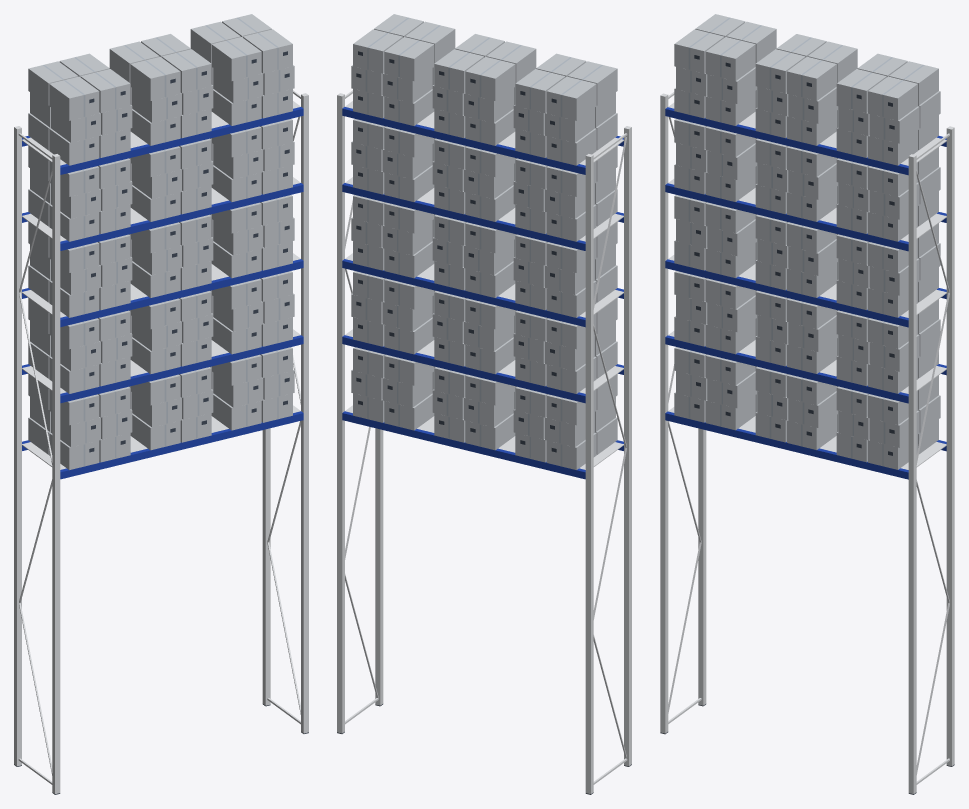
File: SM_MPR_CADRack_F9_W144_Passage_LOD1.fbx
The picture shows the model from 3 angles, left to right: view 1: azimuth 30°, elevation 25°; view 2: azimuth 150°, elevation 25°; view 3: azimuth 330°, elevation 25°; orthographic projection.
Visible parts, largest first — view 1: SM_MPR_CADRack_F9_W144_Passage_LOD1; view 2: SM_MPR_CADRack_F9_W144_Passage_LOD1; view 3: SM_MPR_CADRack_F9_W144_Passage_LOD1.
Part boxes in pixels (x1=…): SM_MPR_CADRack_F9_W144_Passage_LOD1: x1=14, y1=14, x2=308, y2=794; SM_MPR_CADRack_F9_W144_Passage_LOD1: x1=337, y1=14, x2=631, y2=794; SM_MPR_CADRack_F9_W144_Passage_LOD1: x1=660, y1=14, x2=954, y2=794.
Size of the model in its own units: 381 by 107 by 994.
